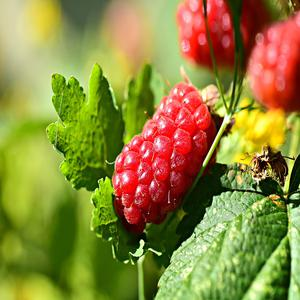raspb: (110, 79, 219, 218)
